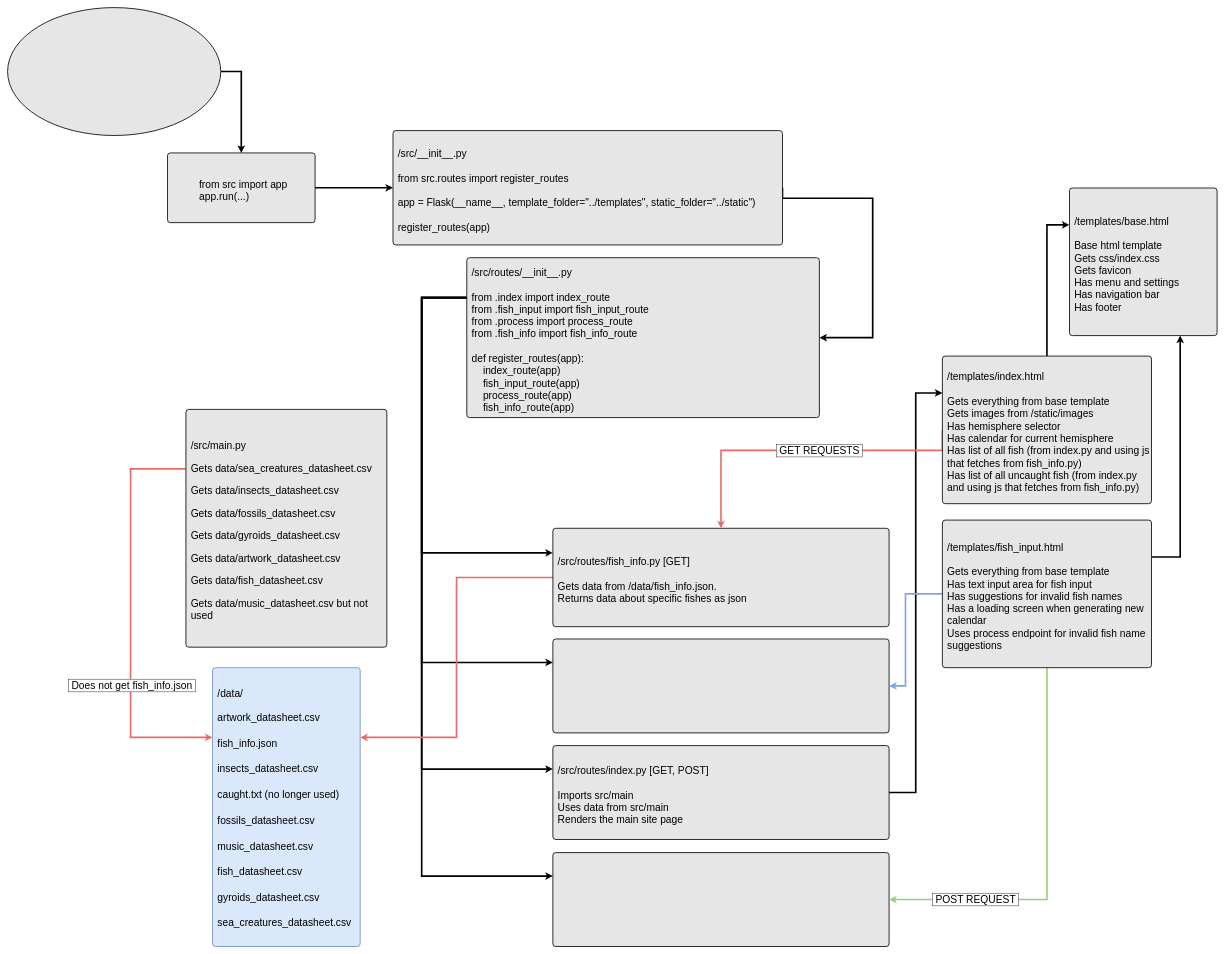
The diagram is 1224 pixels wide and 954 high, and some of its shapes have lost their labels. Each missing label, with the centre of its shape:
/src/routes/fish_input.py renders the page for fish_input: pixel 720 685
/src/routes/process.py [POST] Imports src/main Uses data from src/main: pixel 720 899
python run.py: pixel 114 71
